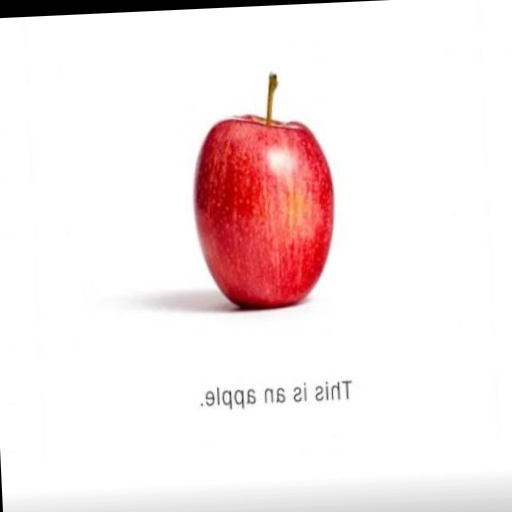fruit: (194, 75, 332, 307)
